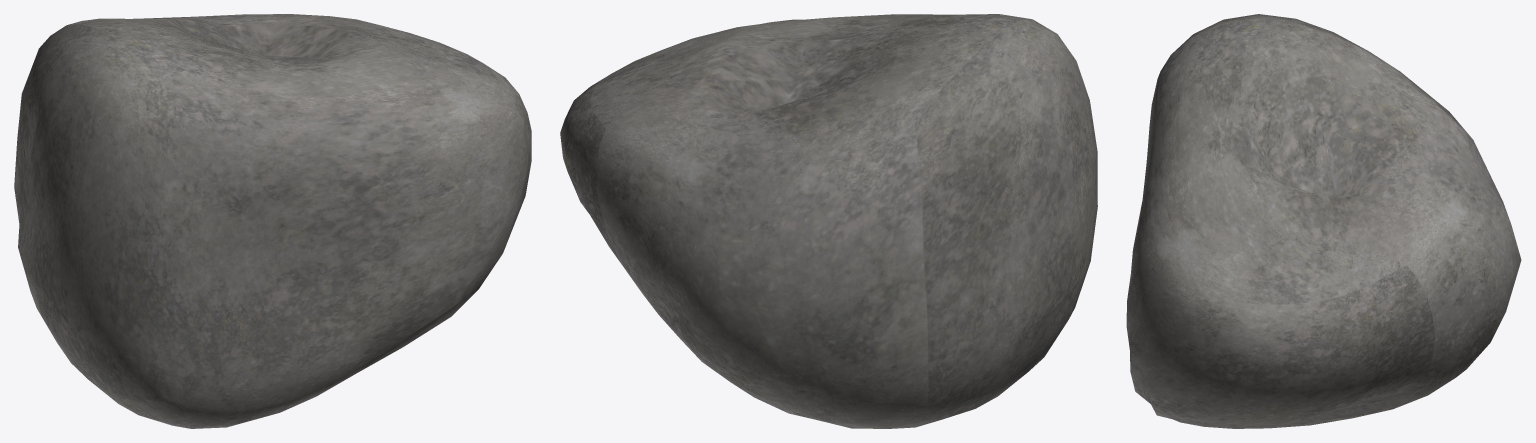
The model's file is inseki_2.fbx.
The picture shows the model from 3 angles, left to right: view 1: azimuth 30°, elevation 25°; view 2: azimuth 150°, elevation 25°; view 3: azimuth 270°, elevation 25°; orthographic projection. The views are drawn at different scales.
Parts seen in each view (by area): view 1: pCube1; view 2: pCube1; view 3: pCube1.
Part boxes in pixels (x1,y1,x2,y2): pCube1: (14,14,531,428); pCube1: (560,14,1097,428); pCube1: (1126,14,1521,428).
Bounding box in the file's own units: 4.85 × 3.76 × 3.79.
1 material, 1 textured.
